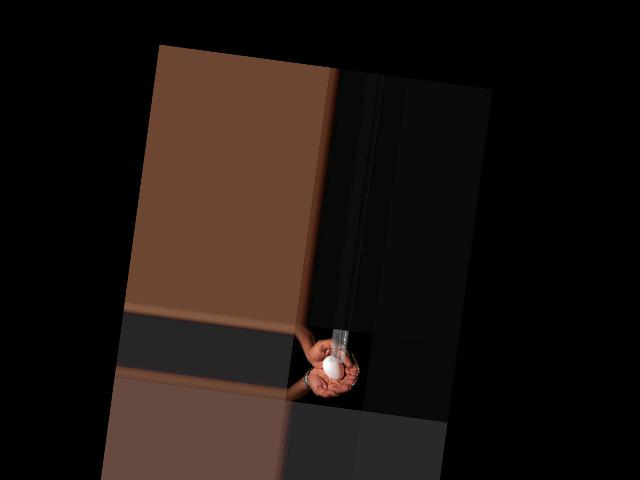egg: (321, 355, 346, 381)
